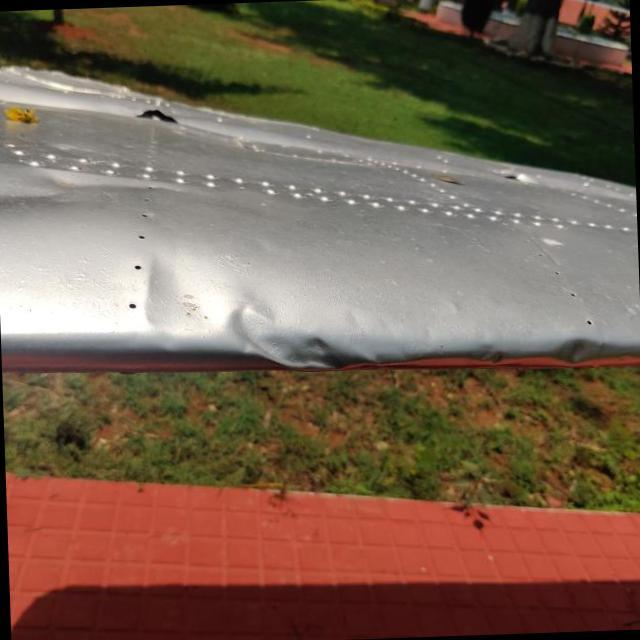Dent: (222, 279, 386, 396), (0, 149, 194, 226), (542, 320, 606, 382)
